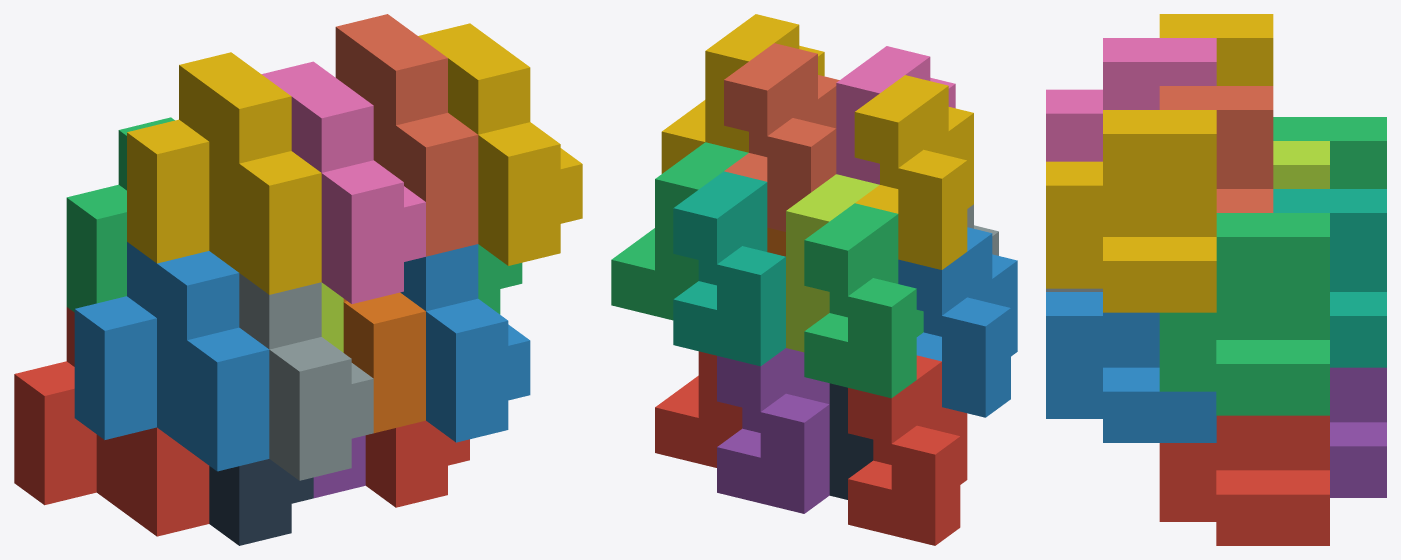
Rendered from tiling.obj.
The picture shows the model from 3 angles, left to right: view 1: azimuth 30°, elevation 25°; view 2: azimuth 150°, elevation 25°; view 3: azimuth 270°, elevation 25°; orthographic projection. The views are drawn at different scales.
Parts seen in each view (by area): view 1: copy_1_domain_4, copy_1_domain_2, copy_2_domain_4, copy_2_domain_8, copy_1_domain_1, copy_1_domain_8, copy_2_domain_2, copy_2_domain_6, copy_1_domain_6, copy_1_domain_3, copy_2_domain_1, copy_2_domain_5 (+3 smaller); view 2: copy_1_domain_3, copy_1_domain_7, copy_1_domain_4, copy_1_domain_1, copy_1_domain_5, copy_1_domain_2, copy_1_domain_8, copy_2_domain_7, copy_2_domain_8, copy_2_domain_3, copy_2_domain_5, copy_2_domain_4 (+1 smaller); view 3: copy_2_domain_8, copy_2_domain_7, copy_2_domain_5, copy_2_domain_6, copy_1_domain_7, copy_2_domain_4, copy_1_domain_8, copy_1_domain_5, copy_1_domain_4, copy_1_domain_3, copy_2_domain_3.
Part boxes in pixels (x1,y1,x2,y2): copy_1_domain_4: [127, 52, 321, 294]; copy_1_domain_2: [74, 242, 269, 471]; copy_2_domain_4: [261, 61, 425, 303]; copy_2_domain_8: [418, 23, 582, 265]; copy_1_domain_1: [14, 307, 209, 536]; copy_1_domain_8: [335, 14, 478, 256]; copy_2_domain_2: [239, 273, 373, 480]; copy_2_domain_6: [400, 244, 530, 442]; copy_1_domain_6: [343, 292, 425, 433]; copy_1_domain_3: [66, 117, 174, 312]; copy_2_domain_1: [209, 459, 313, 545]; copy_2_domain_5: [365, 420, 469, 507]; copy_1_domain_3: [804, 203, 923, 398]; copy_1_domain_7: [673, 171, 785, 366]; copy_1_domain_4: [854, 75, 973, 269]; copy_1_domain_1: [848, 355, 967, 545]; copy_1_domain_5: [717, 348, 829, 513]; copy_1_domain_2: [898, 227, 1017, 417]; copy_1_domain_8: [724, 43, 839, 231]; copy_2_domain_7: [611, 142, 748, 320]; copy_2_domain_8: [661, 14, 824, 173]; copy_2_domain_3: [786, 174, 879, 352]; copy_2_domain_5: [655, 351, 742, 467]; copy_2_domain_4: [836, 46, 955, 184]; copy_2_domain_8: [1046, 110, 1216, 312]; copy_2_domain_7: [1159, 213, 1329, 415]; copy_2_domain_5: [1159, 415, 1329, 545]; copy_2_domain_6: [1046, 292, 1216, 442]; copy_1_domain_7: [1273, 189, 1386, 367]; copy_2_domain_4: [1046, 38, 1216, 161]; copy_1_domain_8: [1159, 86, 1273, 212]; copy_1_domain_5: [1330, 367, 1386, 497]; copy_1_domain_4: [1159, 14, 1273, 85]; copy_1_domain_3: [1273, 117, 1386, 188]; copy_2_domain_3: [1273, 141, 1329, 188].
Size of the model in its own units: 8 by 8 by 6.
